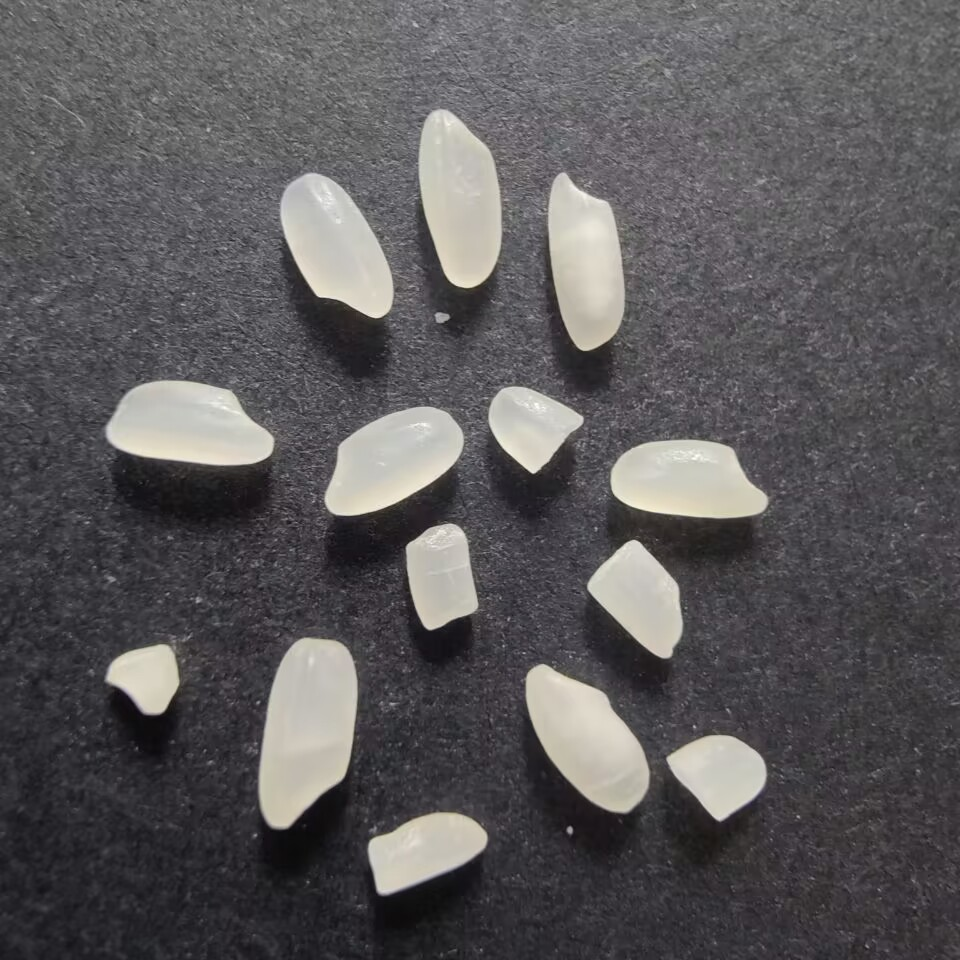broken: (581, 534, 697, 663), (359, 809, 494, 904), (482, 380, 593, 483), (661, 729, 772, 827), (397, 519, 485, 636), (101, 640, 186, 725)
rice: (253, 633, 363, 839), (519, 660, 653, 817), (276, 170, 401, 325), (415, 99, 510, 294), (318, 401, 467, 519), (96, 377, 282, 470), (545, 167, 631, 354), (606, 433, 776, 522)
